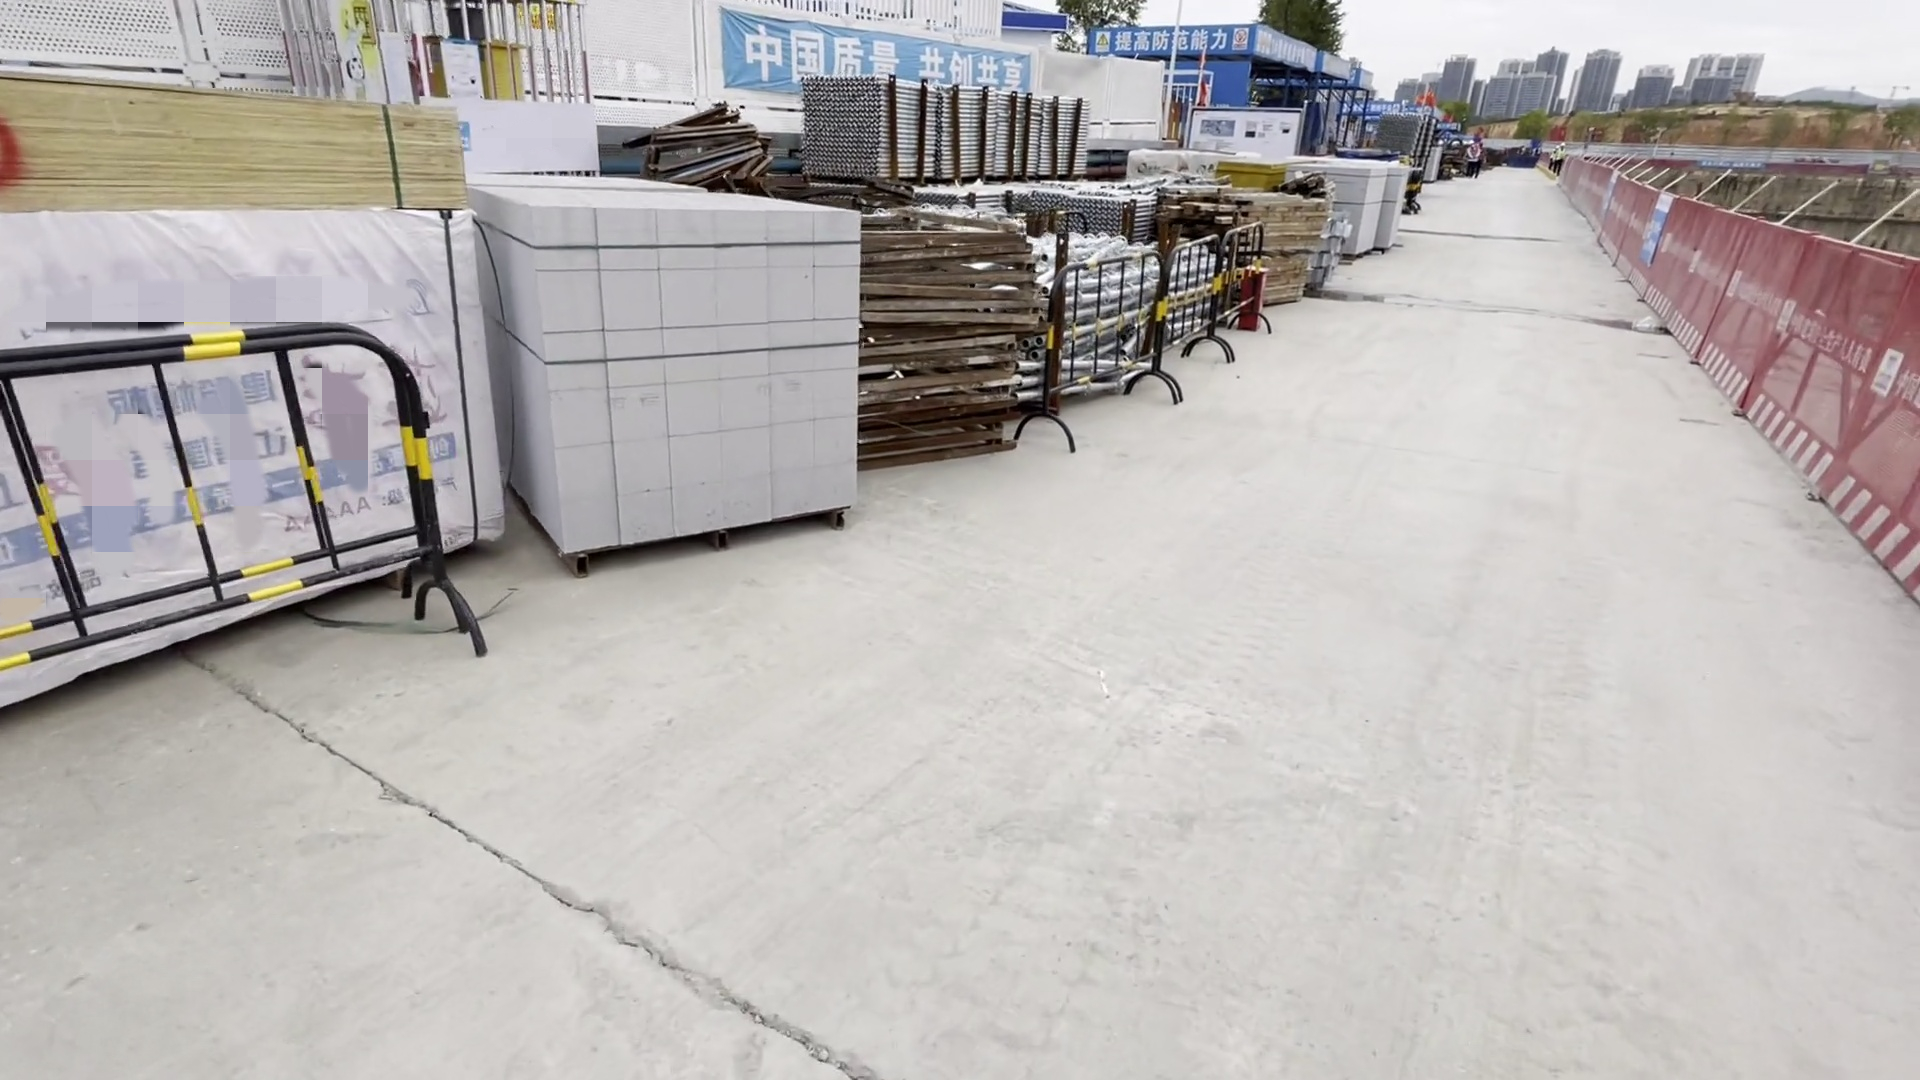board: (1, 88, 487, 593)
brick: (477, 170, 862, 564), (1313, 157, 1420, 256)
fence: (1555, 156, 1920, 597)
scaffold: (811, 80, 1172, 235)
slogan: (696, 16, 1043, 100), (1087, 26, 1258, 65)
wood: (1244, 190, 1315, 309)
